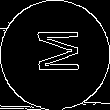M_W: (29, 31, 81, 79)
